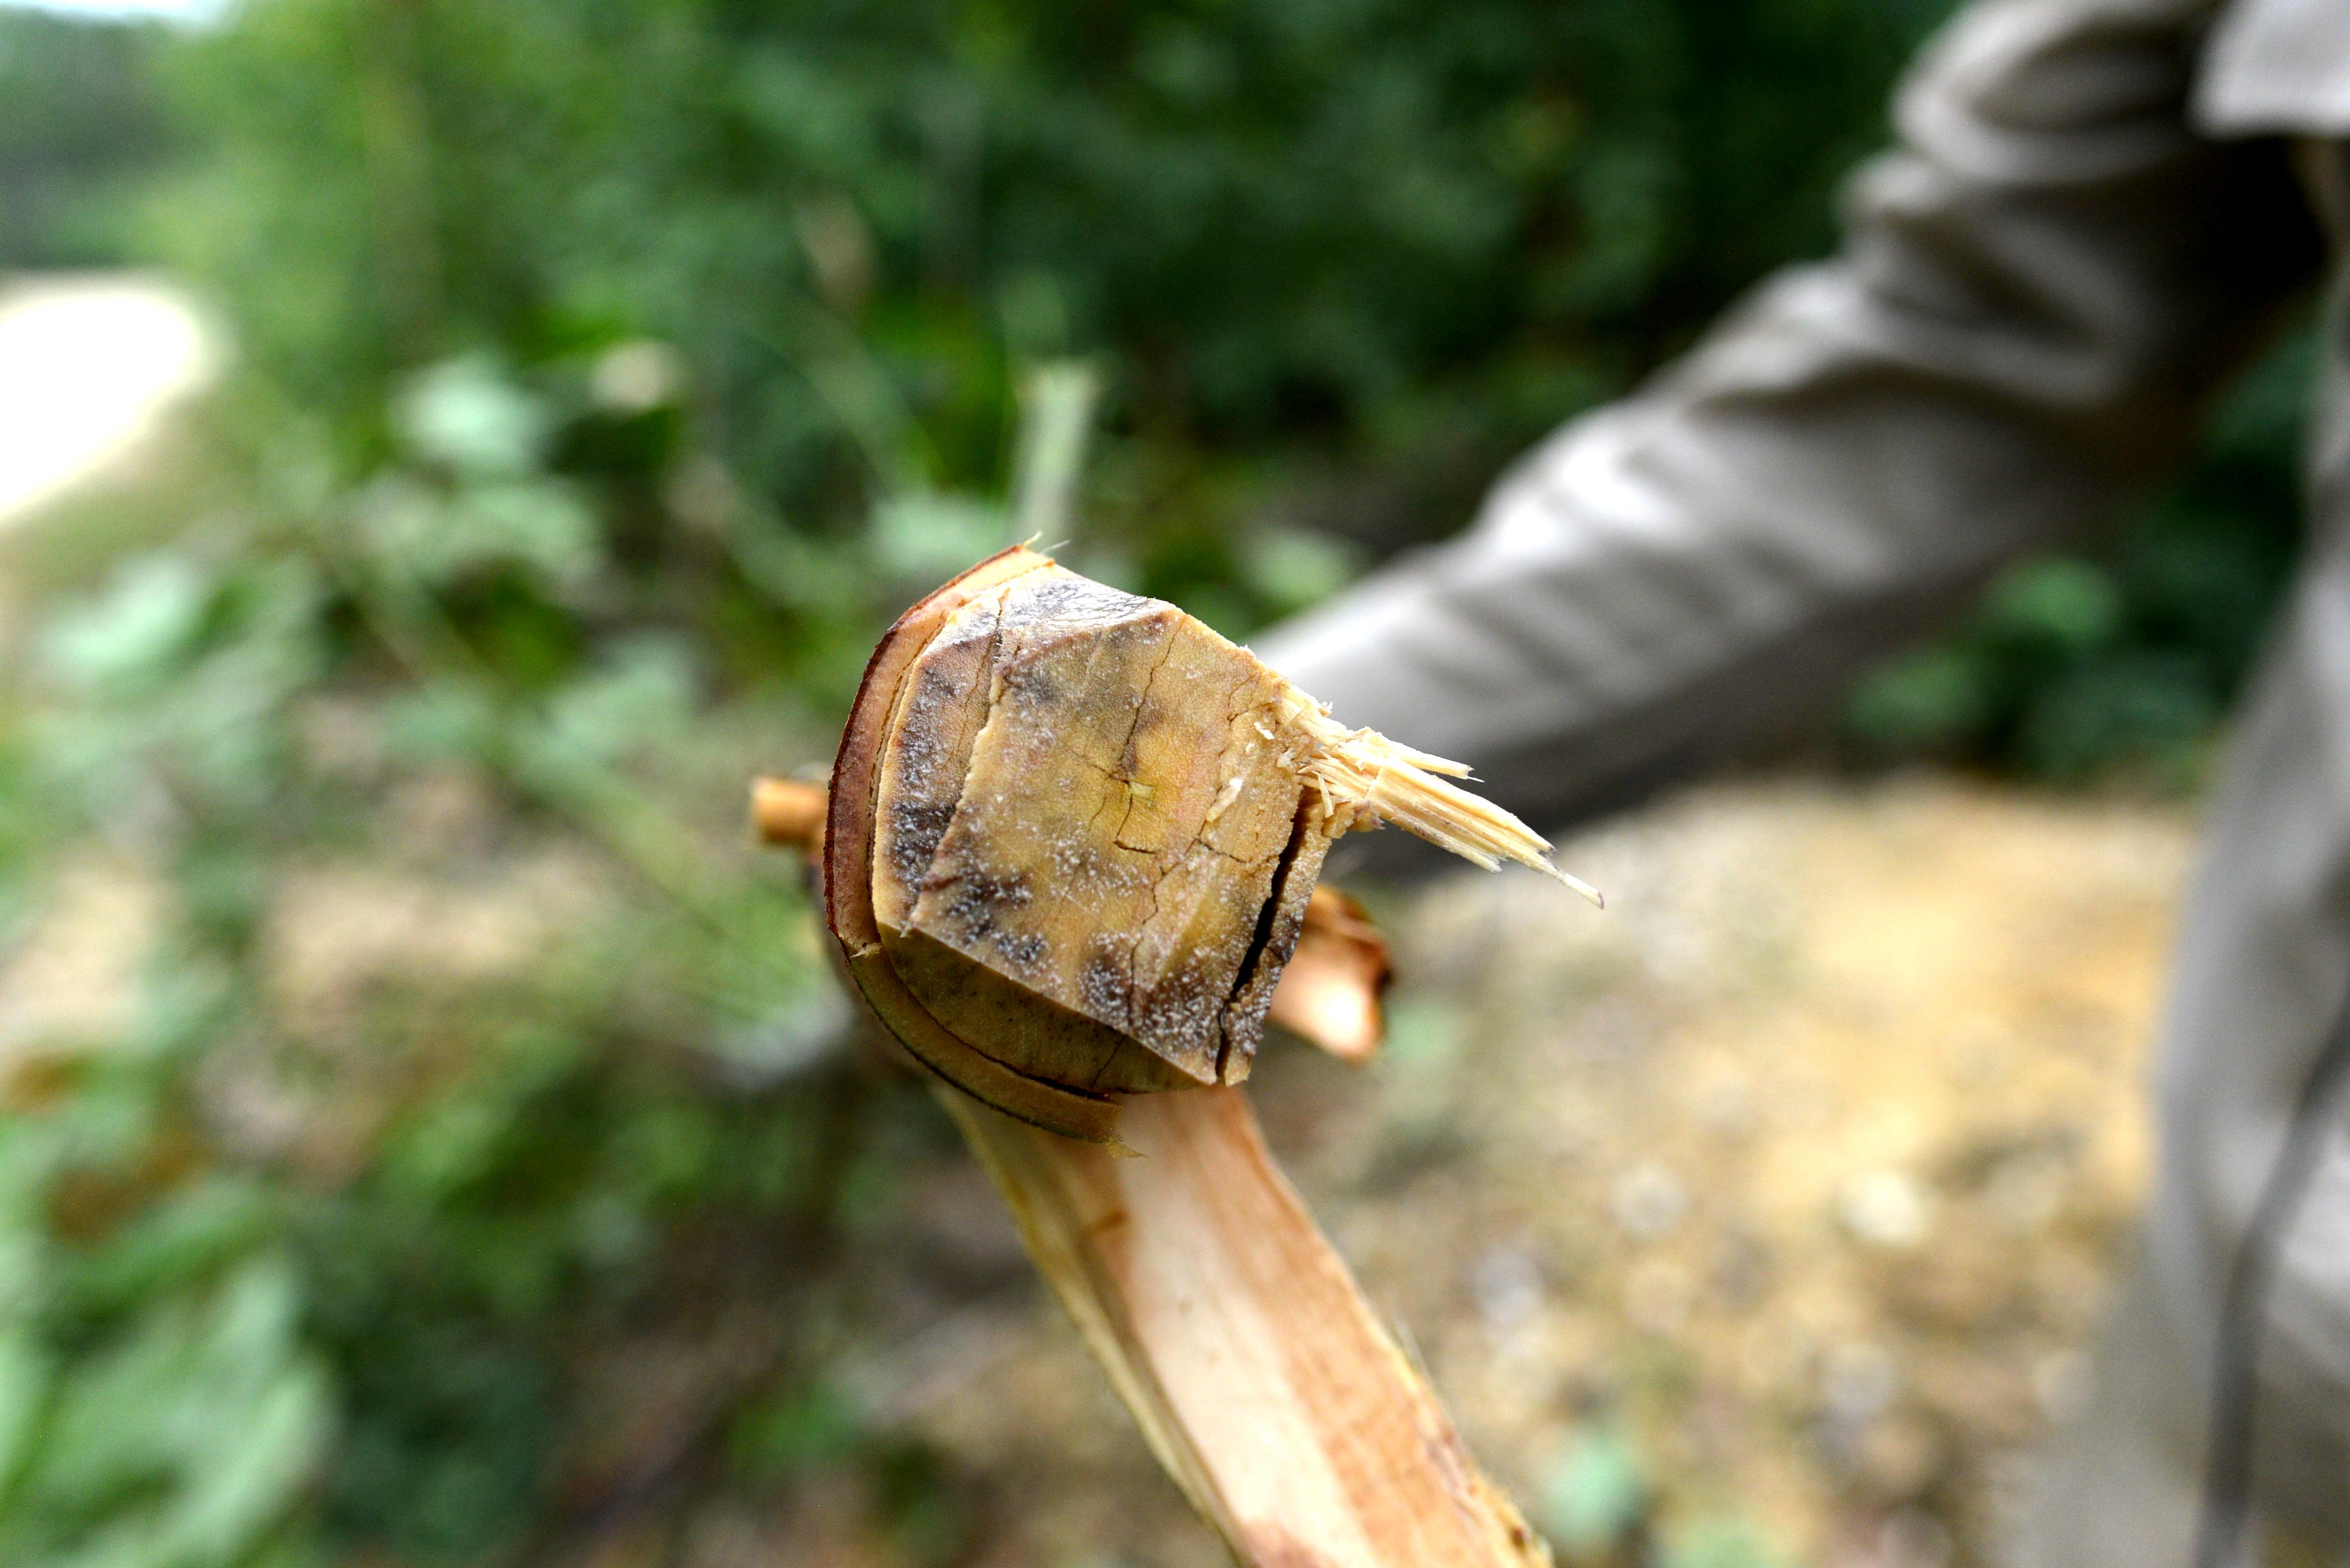Ralstonia: (1083, 839, 1314, 1044), (885, 655, 959, 943), (966, 826, 1075, 1010), (962, 573, 1162, 652), (1003, 667, 1091, 804), (1074, 1007, 1075, 1010)
